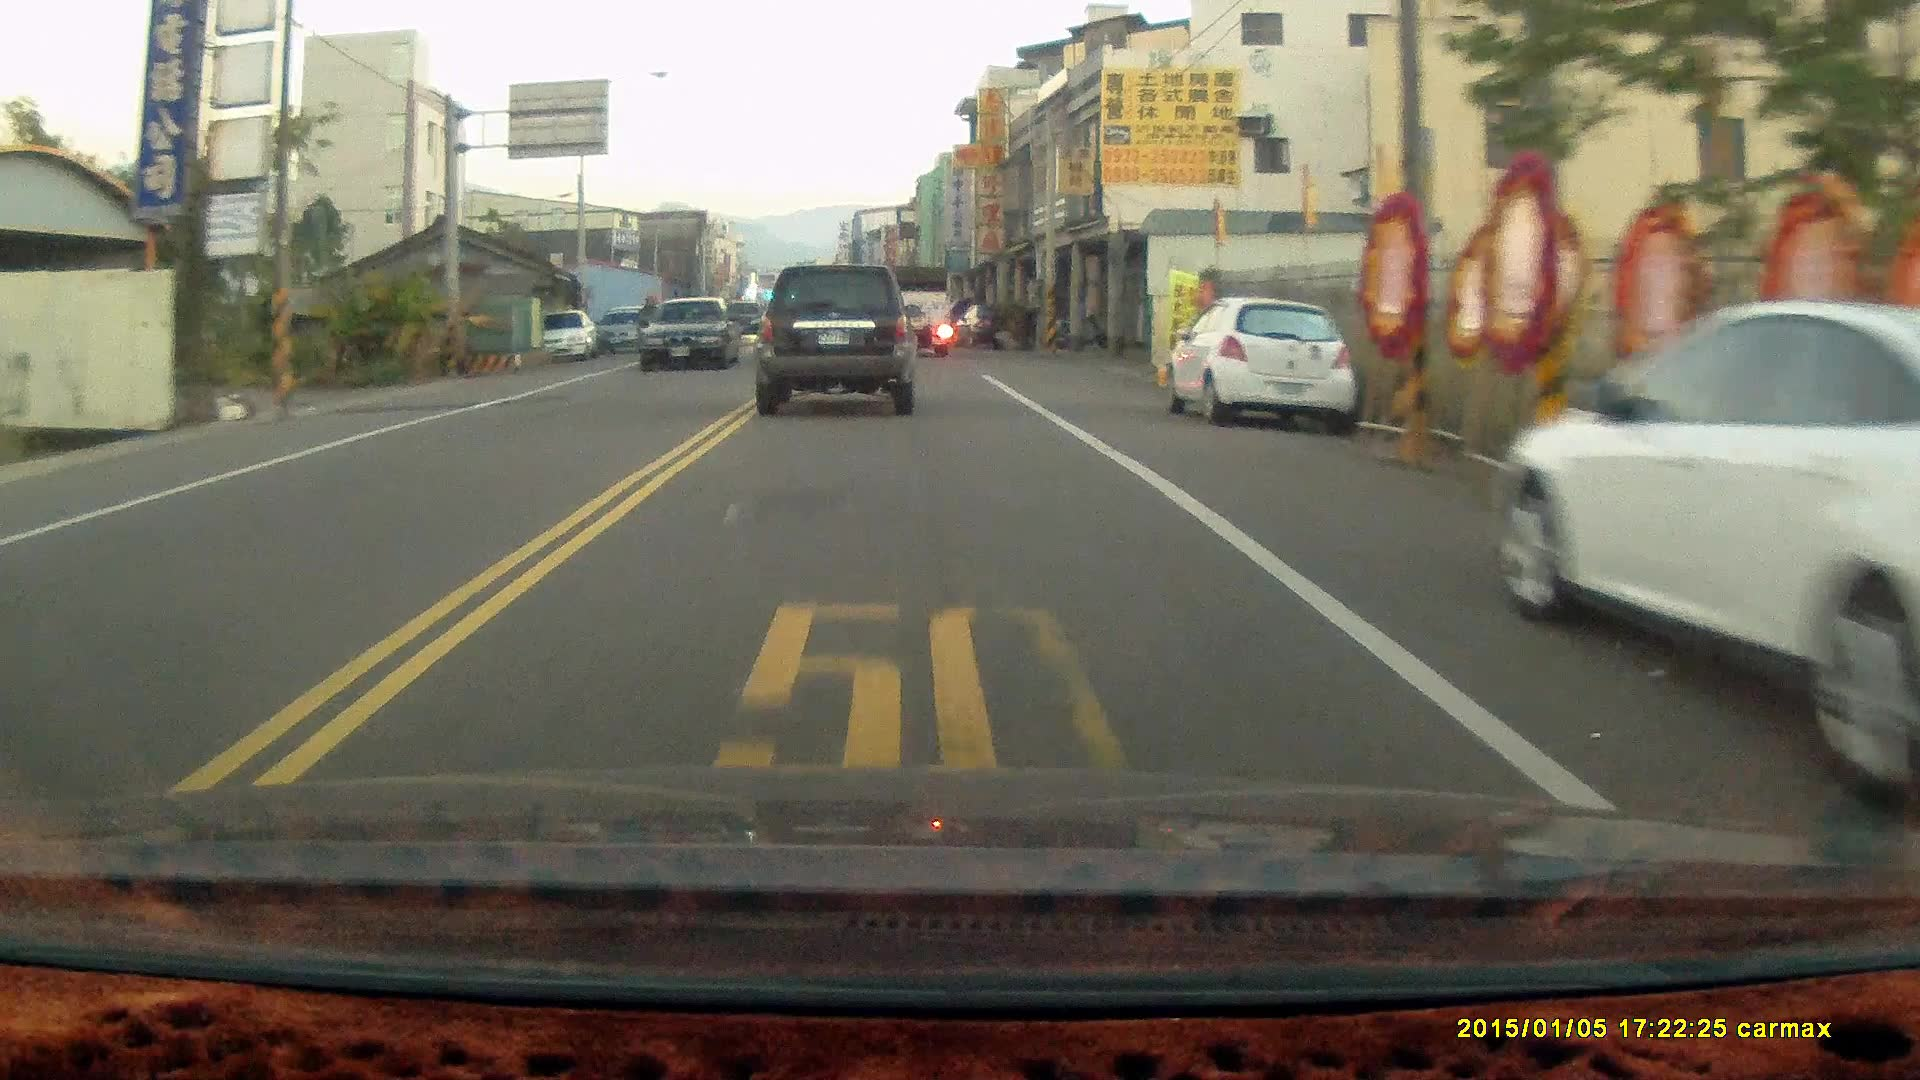vehicle: (1487, 299, 1920, 811), (750, 262, 919, 415), (1168, 297, 1352, 436), (644, 293, 746, 369), (882, 262, 957, 356), (524, 309, 601, 363), (592, 305, 659, 355)
